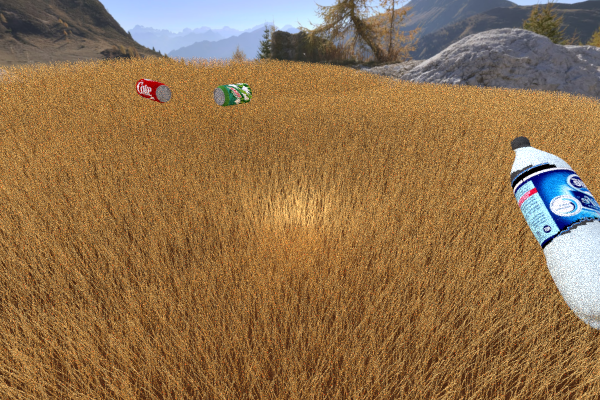Plastic Bottle: (510, 136, 600, 332), (135, 78, 171, 103), (213, 83, 252, 106)
